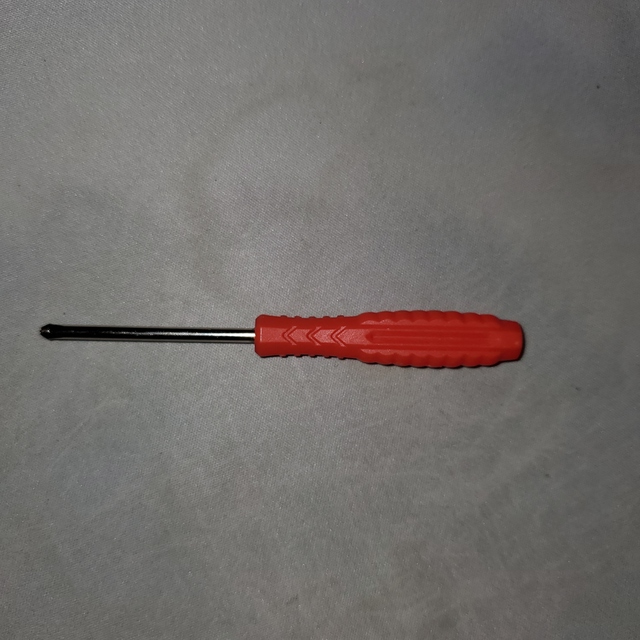screwdriver: (30, 285, 545, 386)
